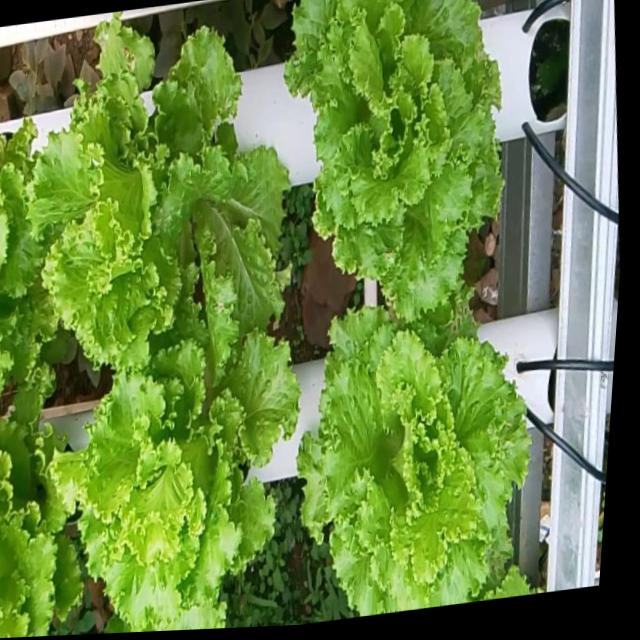Mature: (66, 38, 310, 385), (323, 302, 551, 611), (89, 332, 324, 631), (307, 0, 521, 316)
